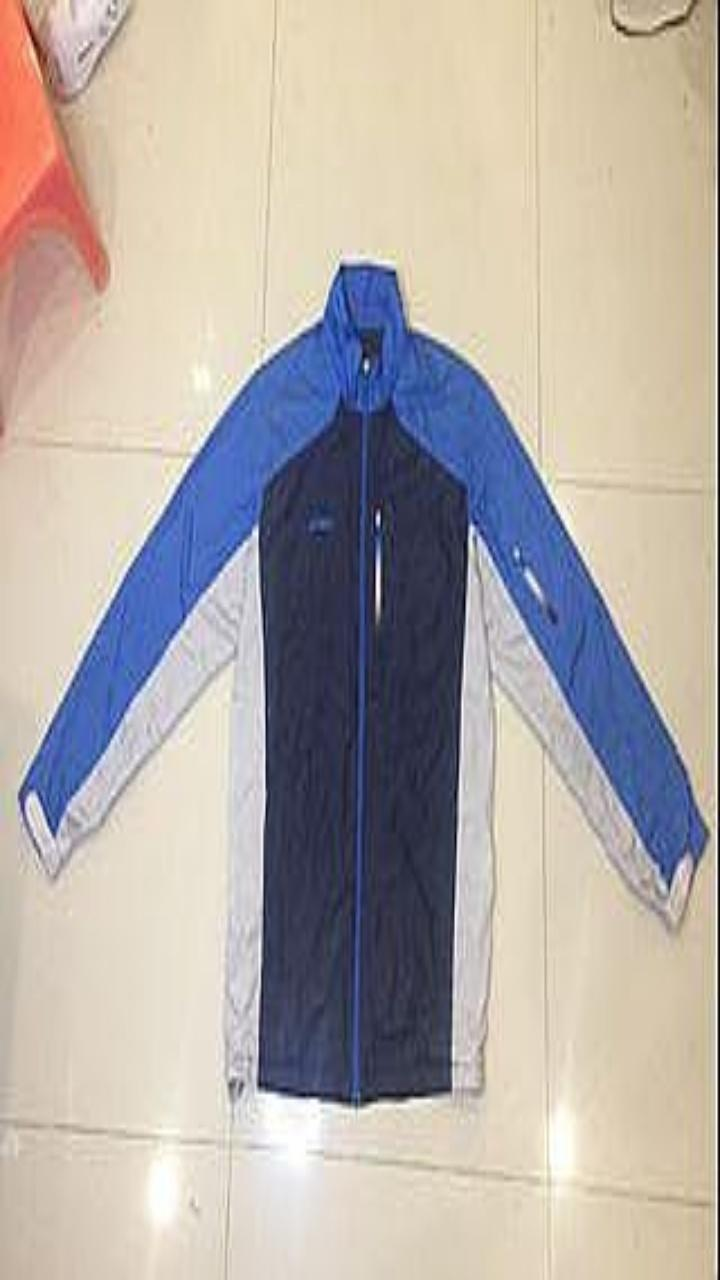Sports_Jacket: (19, 264, 706, 1102)
